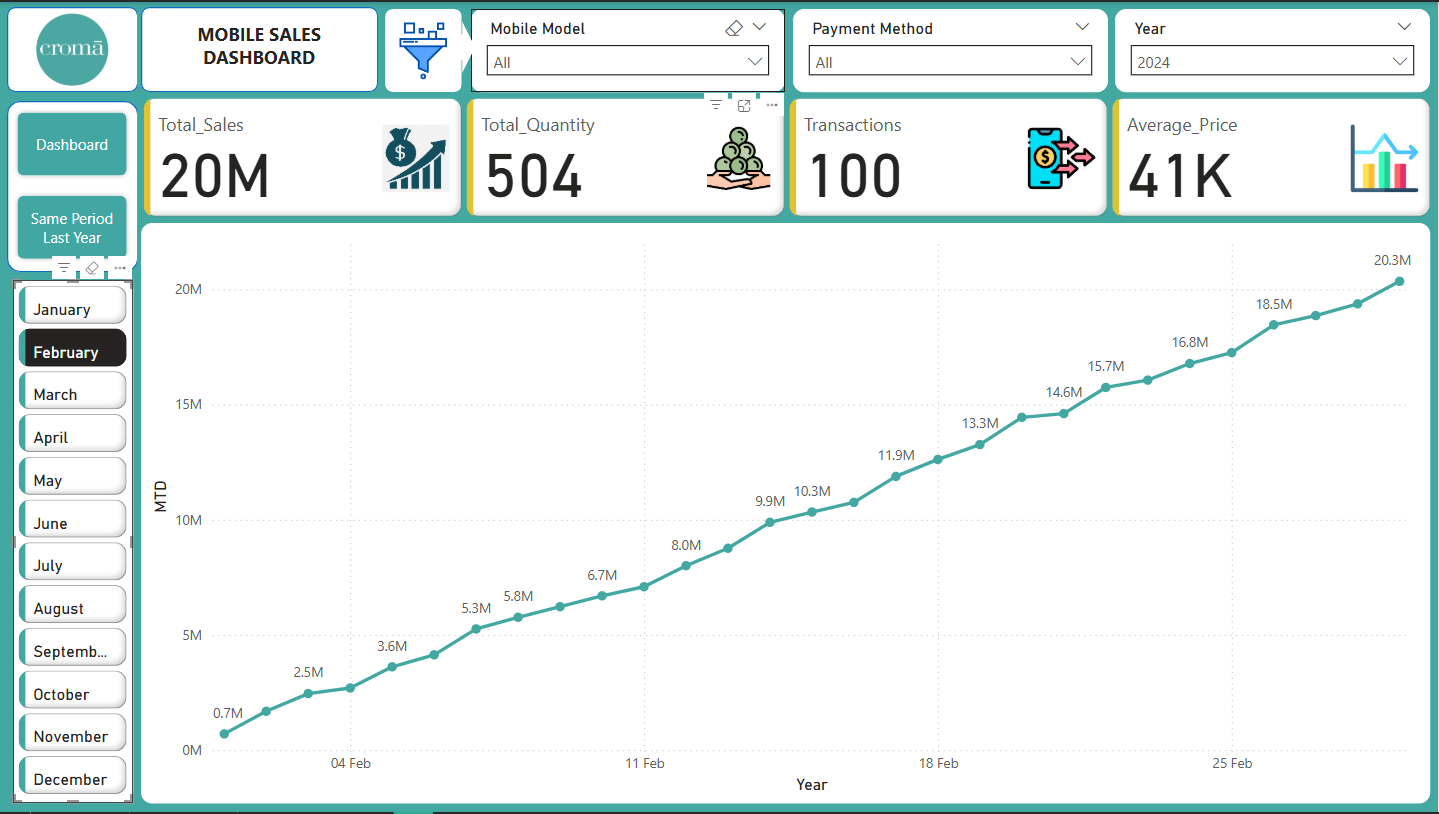

What the dashboard file says about the page in this screenshot:
{"tool":"powerbi","page":{"name":"MTD Report","canvas":[1280,720],"ordinal":1},"visuals":[{"type":"shape","box":[8,4.4,116.4,75.6],"z":0},{"type":"image","box":[8,5.3,116.4,73.8],"z":1000},{"type":"shape","box":[8,88,116.4,152],"z":2000},{"type":"cardVisual","fields":{"Data":["Sales_Data.Total_Sales","Sales_Data.Total_Quantity","Sales_Data.Transactions","Sales_Data.Average_Price"]},"box":[124.4,80,1155.6,116.4],"z":3000},{"type":"slicer","fields":{"Values":["Sales_Data.Mobile Model"]},"box":[420.4,6.2,279.1,73.8],"z":4000},{"type":"slicer","fields":{"Values":["Sales_Data.Payment Method"]},"box":[706.7,6.2,280,73.8],"z":5000},{"type":"slicer","fields":{"Values":["Custom_Calender.Date.Variation.Date Hierarchy.Year"]},"box":[992.9,6.2,280,73.8],"z":6000},{"type":"shape","box":[344,6.2,68.4,73.8],"z":7000},{"type":"image","box":[344,12.4,68.4,62.2],"z":8000},{"type":"shape","box":[127.1,4.4,210.7,75.6],"z":9000},{"type":"textbox","box":[134.2,12.4,195.6,62.2],"z":10000},{"type":"shape","box":[400.7,16.5,23.3,46.7],"z":11000},{"type":"lineChart","fields":{"Y":["Sales_Data.MTD"],"Category":["Custom_Calender.Date.Variation.Date Hierarchy.Year","Custom_Calender.Date.Variation.Date Hierarchy.Quarter","Custom_Calender.Date.Variation.Date Hierarchy.Month","Custom_Calender.Date.Variation.Date Hierarchy.Day"]},"box":[127.1,196.4,1145.8,515.6],"z":12000},{"type":"advancedSlicerVisual","fields":{"Values":["Custom_Calender.Date.Variation.Date Hierarchy.Month"]},"box":[13.3,247.1,106.7,464.9],"z":12001},{"type":"pageNavigator","box":[13.3,94.2,105.8,138.7],"z":12002}]}

Visuals, with their boxes in screenshot pixels (x1, y1, x2, y2), scaled from the page's 1280x720 canvas onto the 1439x814 screenshot:
shape: 9, 5, 140, 90
image: 9, 6, 140, 89
shape: 9, 99, 140, 271
cardVisual - Sales_Data.Total_Sales x Sales_Data.Total_Quantity: 140, 90, 1438, 222
slicer - Sales_Data.Mobile Model: 473, 7, 786, 90
slicer - Sales_Data.Payment Method: 794, 7, 1109, 90
slicer - Custom_Calender.Date.Variation.Date Hierarchy.Year: 1116, 7, 1431, 90
shape: 387, 7, 464, 90
image: 387, 14, 464, 84
shape: 143, 5, 380, 90
textbox: 151, 14, 371, 84
shape: 450, 19, 477, 71
lineChart - Sales_Data.MTD x Custom_Calender.Date.Variation.Date Hierarchy.Year: 143, 222, 1431, 805
advancedSlicerVisual - Custom_Calender.Date.Variation.Date Hierarchy.Month: 15, 279, 135, 805
pageNavigator: 15, 106, 134, 263
